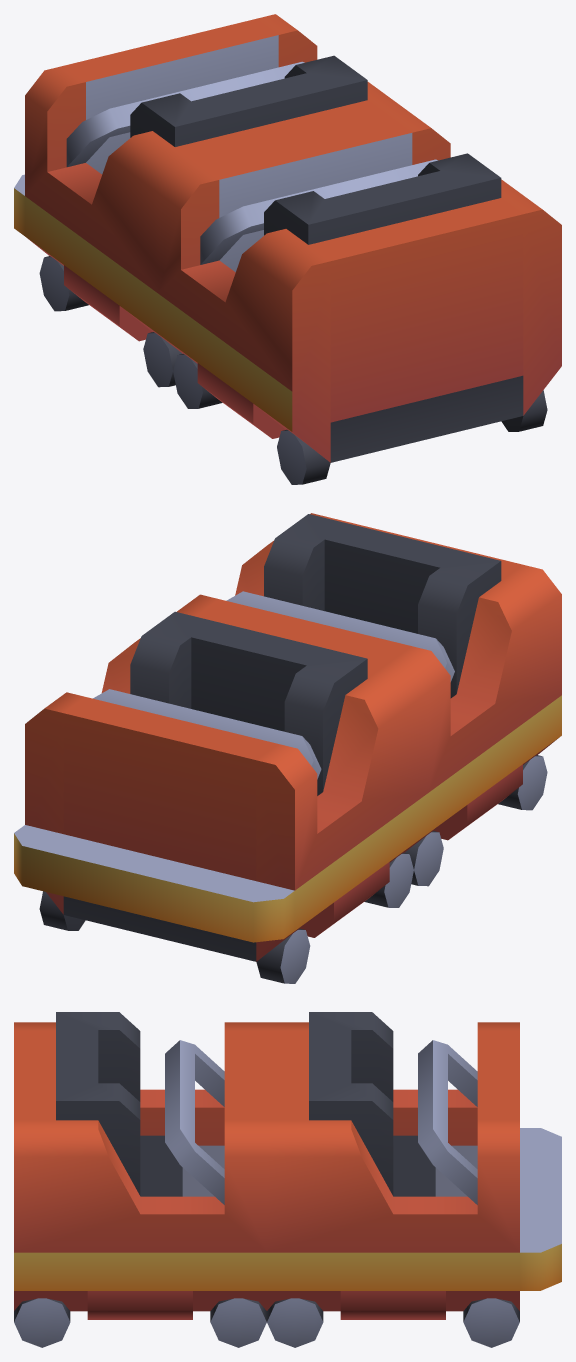
The model's file is coaster-train.glb.
The picture shows the model from 3 angles, top to bottom: view 1: azimuth 30°, elevation 25°; view 2: azimuth 150°, elevation 25°; view 3: azimuth 270°, elevation 25°; orthographic projection. The views are drawn at different scales.
Parts seen in each view (by area): view 1: coaster-train; view 2: coaster-train; view 3: coaster-train.
Boxes of the visible parts, x1,y1,x2,y2 form: coaster-train: [14, 14, 561, 484]; coaster-train: [14, 513, 561, 983]; coaster-train: [14, 1012, 561, 1347].
Bounding box in the file's own units: 0.7 × 0.617 × 1.3.
